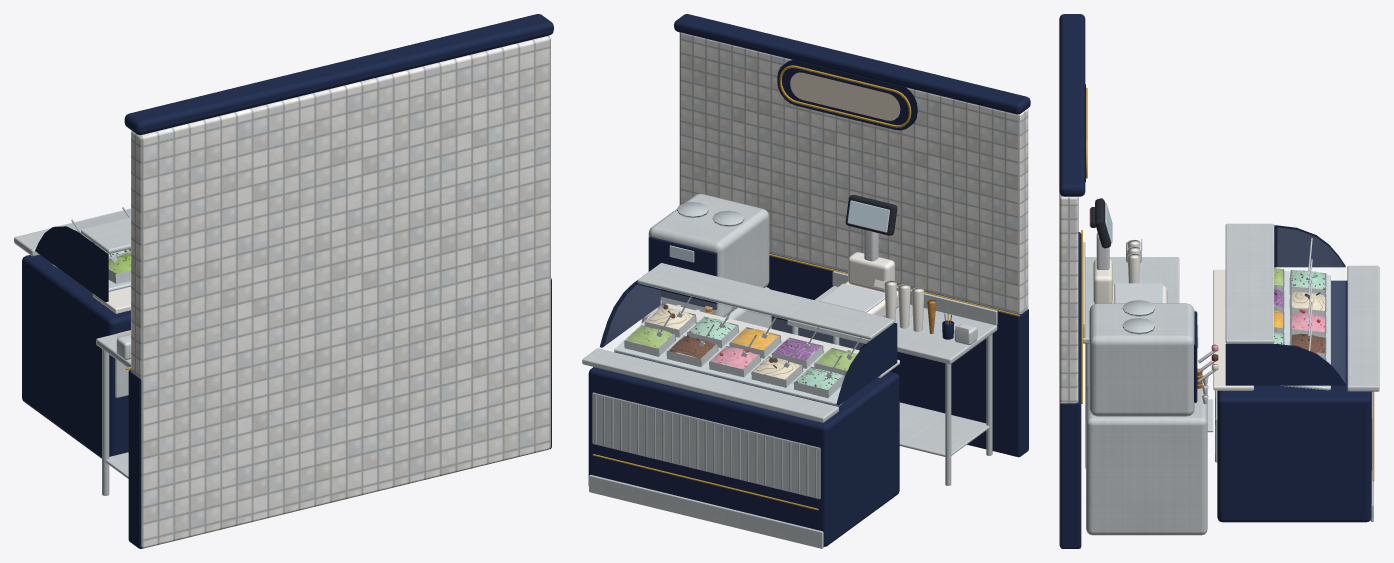
File: sector-sorvetes_T1.fbx
3 renders of one model, left to right at view 1: azimuth 30°, elevation 25°; view 2: azimuth 150°, elevation 25°; view 3: azimuth 270°, elevation 25°, orthographic. The views are drawn at different scales.
Parts seen in each view (by area): view 1: Body; view 2: Body; view 3: Body.
Boxes of the visible parts, x1,y1,x2,y2 form: Body: [14, 14, 553, 548]; Body: [582, 14, 1030, 548]; Body: [1059, 14, 1379, 548].
Size of the model in its own units: 2.54 by 2.48 by 1.98.
